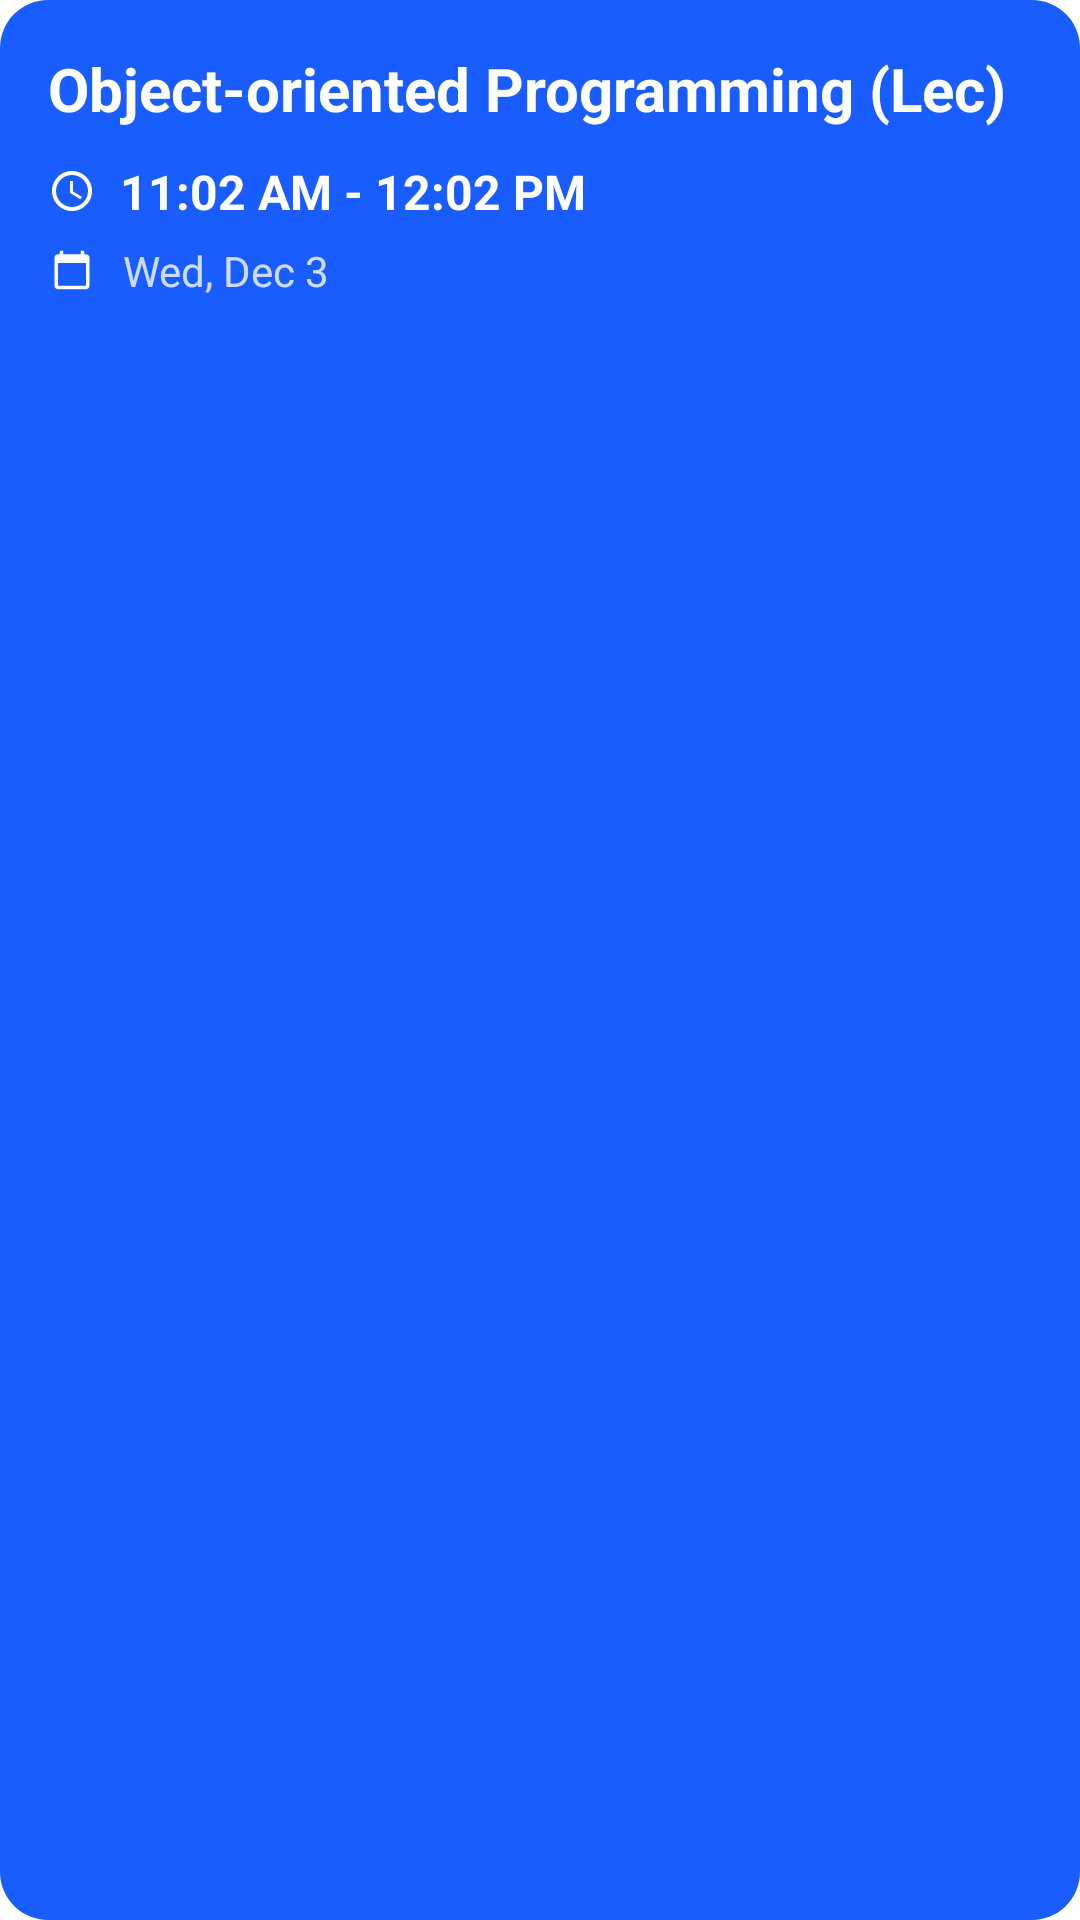

Icon bounding boxes for this 1080x1920 phone screenshot, format (x1, y1, x2, y2):
widget calendar: (54, 250, 90, 290)
widget time: (52, 171, 92, 211)
